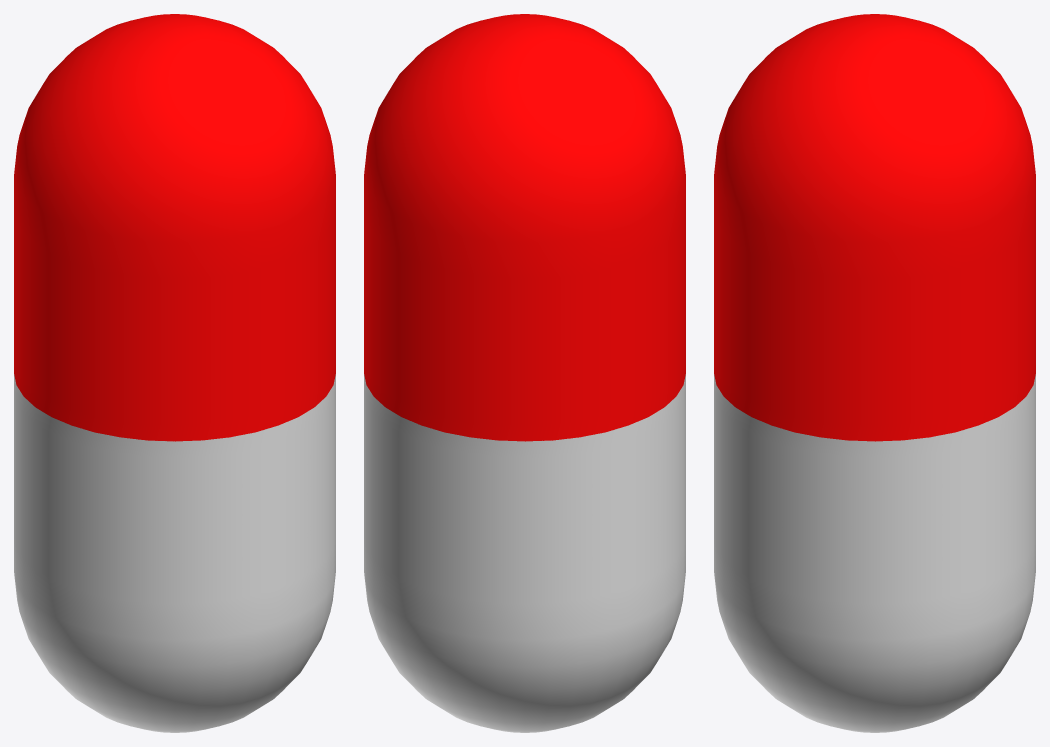
File: Adrenaline.fbx
3 renders of one model, left to right at view 1: azimuth 30°, elevation 25°; view 2: azimuth 150°, elevation 25°; view 3: azimuth 270°, elevation 25°, orthographic.
Visible parts, largest first — view 1: Capsule_2, Capsule; view 2: Capsule_2, Capsule; view 3: Capsule_2, Capsule.
Boxes of the visible parts, box(x1,y1,x2,y2) form: Capsule_2: box(14, 14, 335, 441); Capsule: box(14, 374, 335, 732); Capsule_2: box(364, 14, 685, 441); Capsule: box(364, 374, 685, 732); Capsule_2: box(714, 14, 1035, 441); Capsule: box(714, 374, 1035, 732).
Size of the model in its own units: 100 by 236 by 100.
